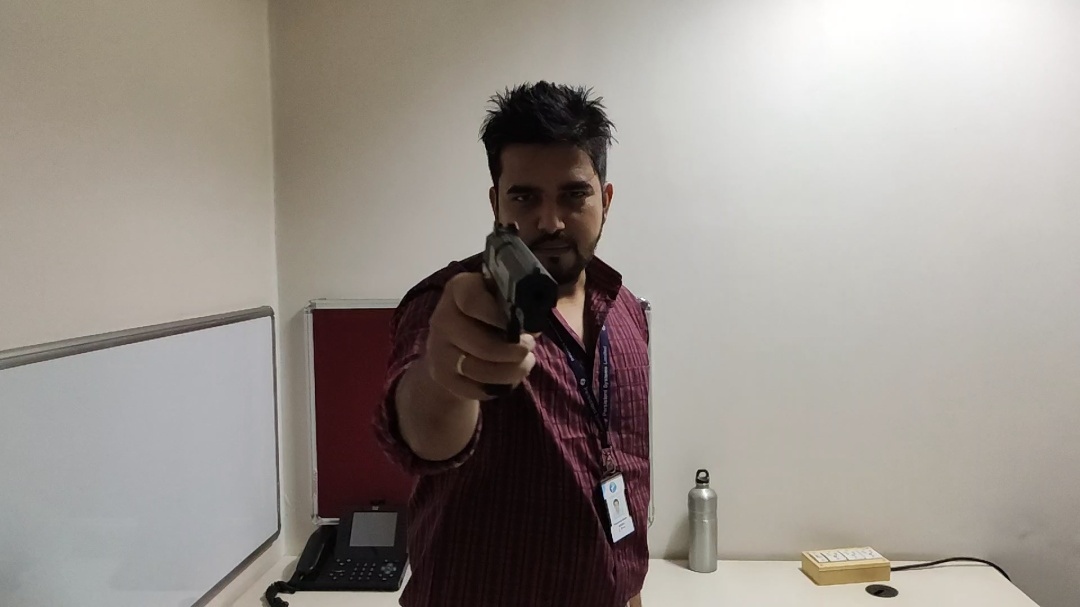gun: (467, 217, 564, 406)
